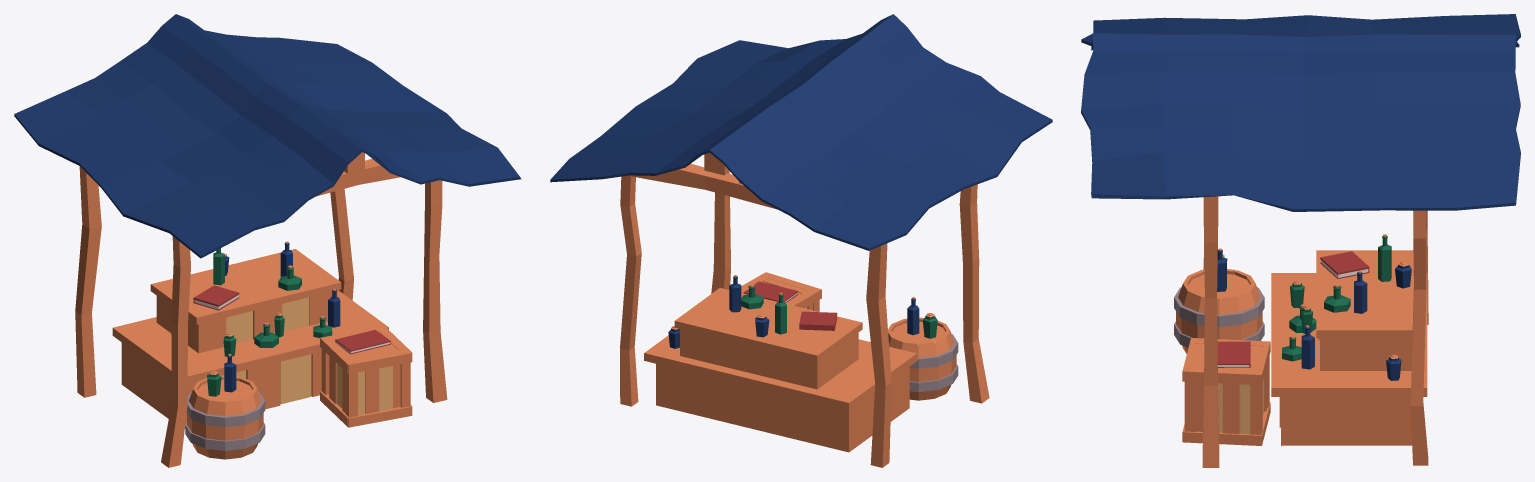
Rendered from ShopTent1.fbx.
3 renders of one model, left to right at view 1: azimuth 30°, elevation 25°; view 2: azimuth 150°, elevation 25°; view 3: azimuth 270°, elevation 25°, orthographic. The views are drawn at different scales.
Visible parts, largest first — view 1: Палатка; view 2: Палатка; view 3: Палатка.
Boxes of the visible parts, box(x1,y1,x2,y2) form: Палатка: box(14, 14, 521, 467); Палатка: box(550, 14, 1052, 467); Палатка: box(1081, 14, 1520, 467).
Bounding box in the file's own units: 214 × 189 × 208.
